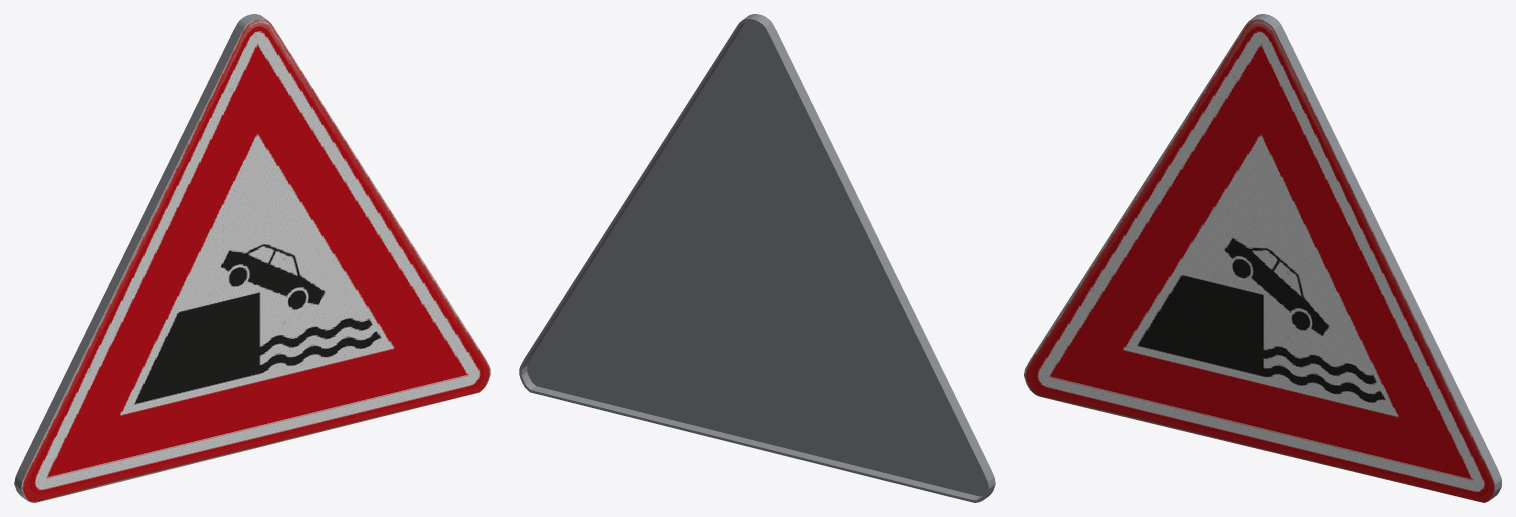
3 renders of one model, left to right at view 1: azimuth 30°, elevation 25°; view 2: azimuth 150°, elevation 25°; view 3: azimuth 330°, elevation 25°, orthographic.
Parts seen in each view (by area): view 1: cat_2c91f82f4bf77179; view 2: cat_2c91f82f4bf77179; view 3: cat_2c91f82f4bf77179.
Part boxes in pixels (<box>): cat_2c91f82f4bf77179: <box>14,14,490,502</box>; cat_2c91f82f4bf77179: <box>519,14,995,502</box>; cat_2c91f82f4bf77179: <box>1024,14,1501,502</box>.
Size of the model in its own units: 0.6 by 0.015 by 0.5245.
2 materials, 1 textured.
